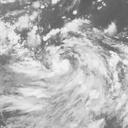cyclone: (45, 42, 96, 90)
